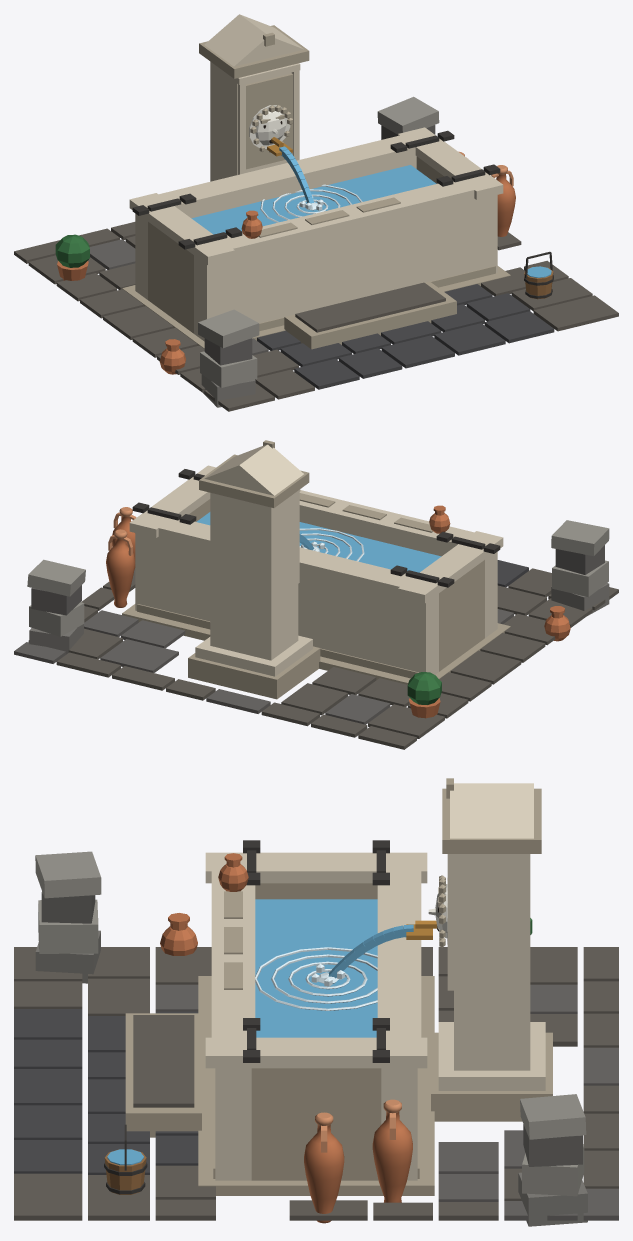
The model's file is Brunnen.fbx.
The picture shows the model from 3 angles, top to bottom: view 1: azimuth 30°, elevation 25°; view 2: azimuth 150°, elevation 25°; view 3: azimuth 270°, elevation 25°; orthographic projection. The views are drawn at different scales.
Visible parts, largest first — view 1: Brunnen_0; view 2: Brunnen_0; view 3: Brunnen_0.
Part boxes in pixels (box(x1,y1,x2,y2)): Brunnen_0: box(14, 14, 618, 411); Brunnen_0: box(14, 440, 618, 749); Brunnen_0: box(14, 778, 618, 1226).
Bounding box in the file's own units: 1.72 × 0.9025 × 1.59.
